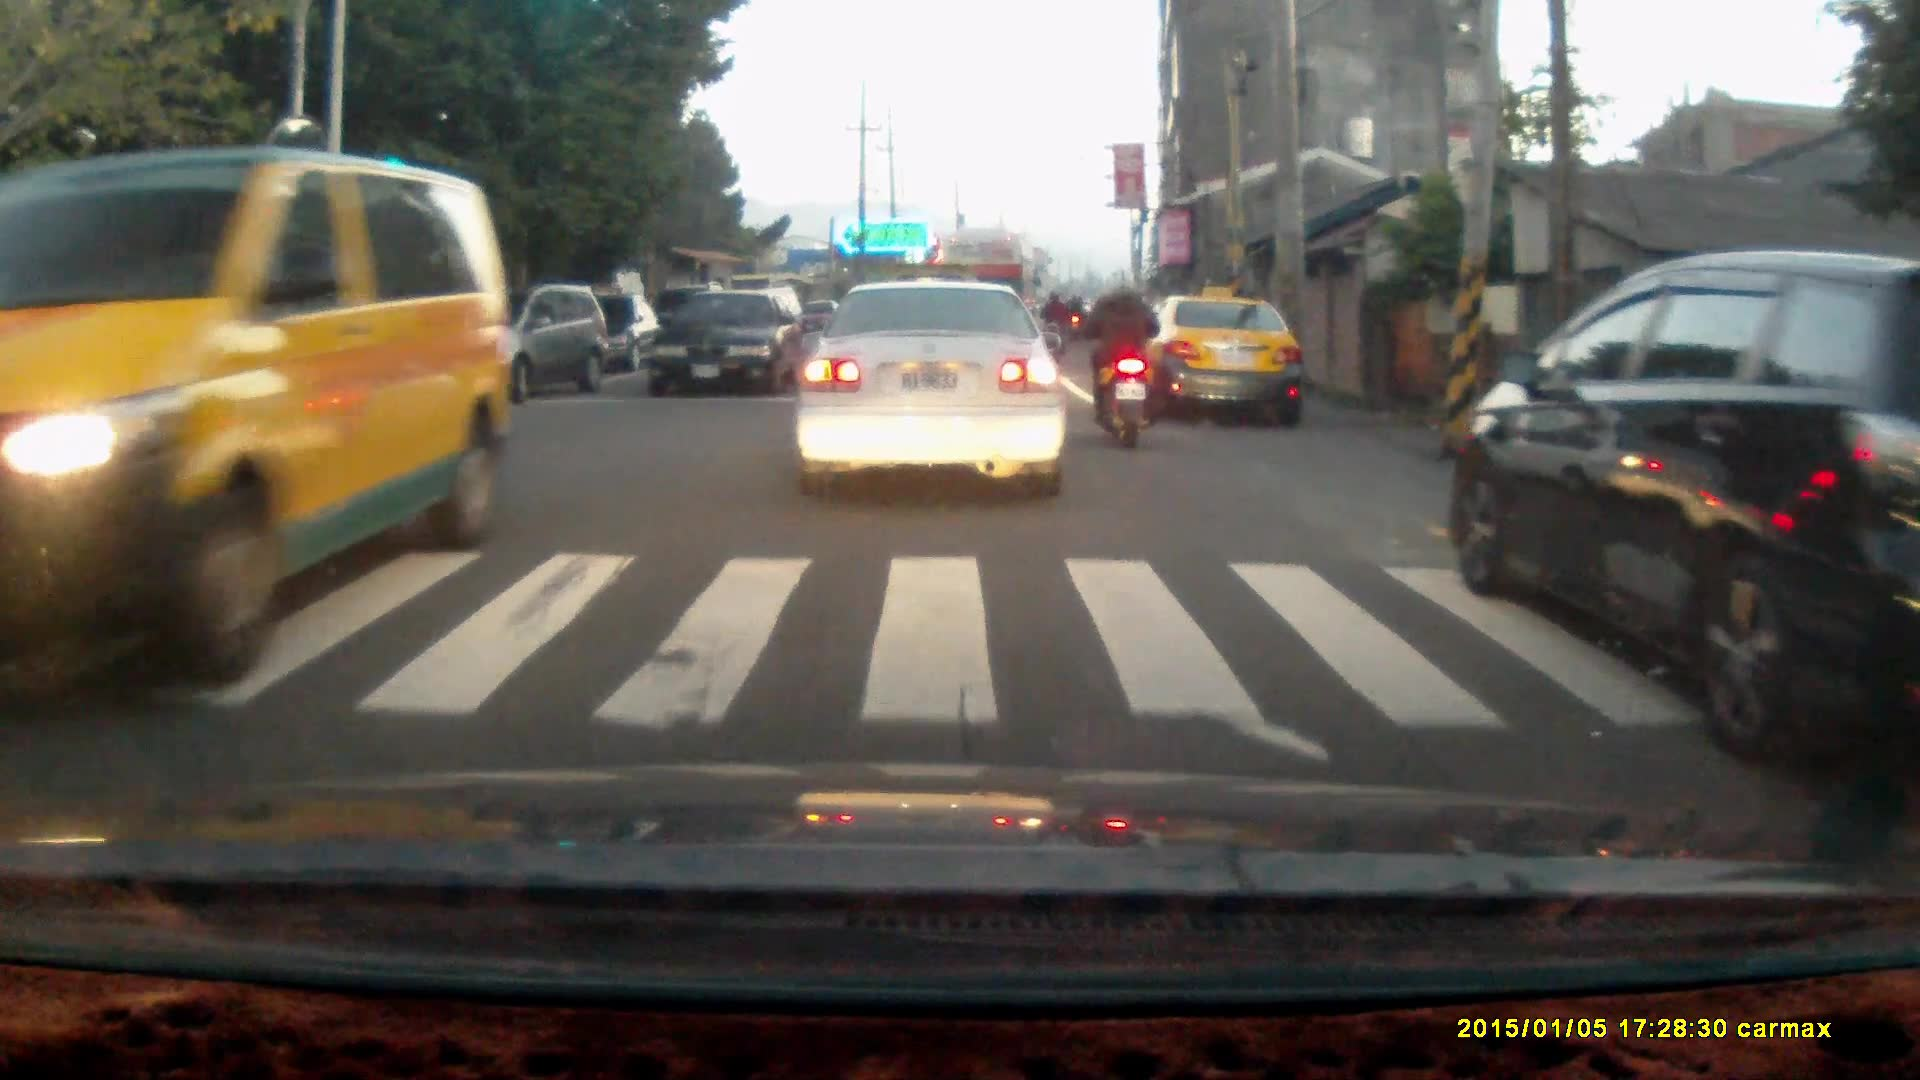rider: (1077, 264, 1163, 449)
vehicle: (1, 145, 527, 684), (1455, 246, 1920, 753), (794, 276, 1071, 502), (1131, 293, 1304, 427), (645, 285, 805, 402)
